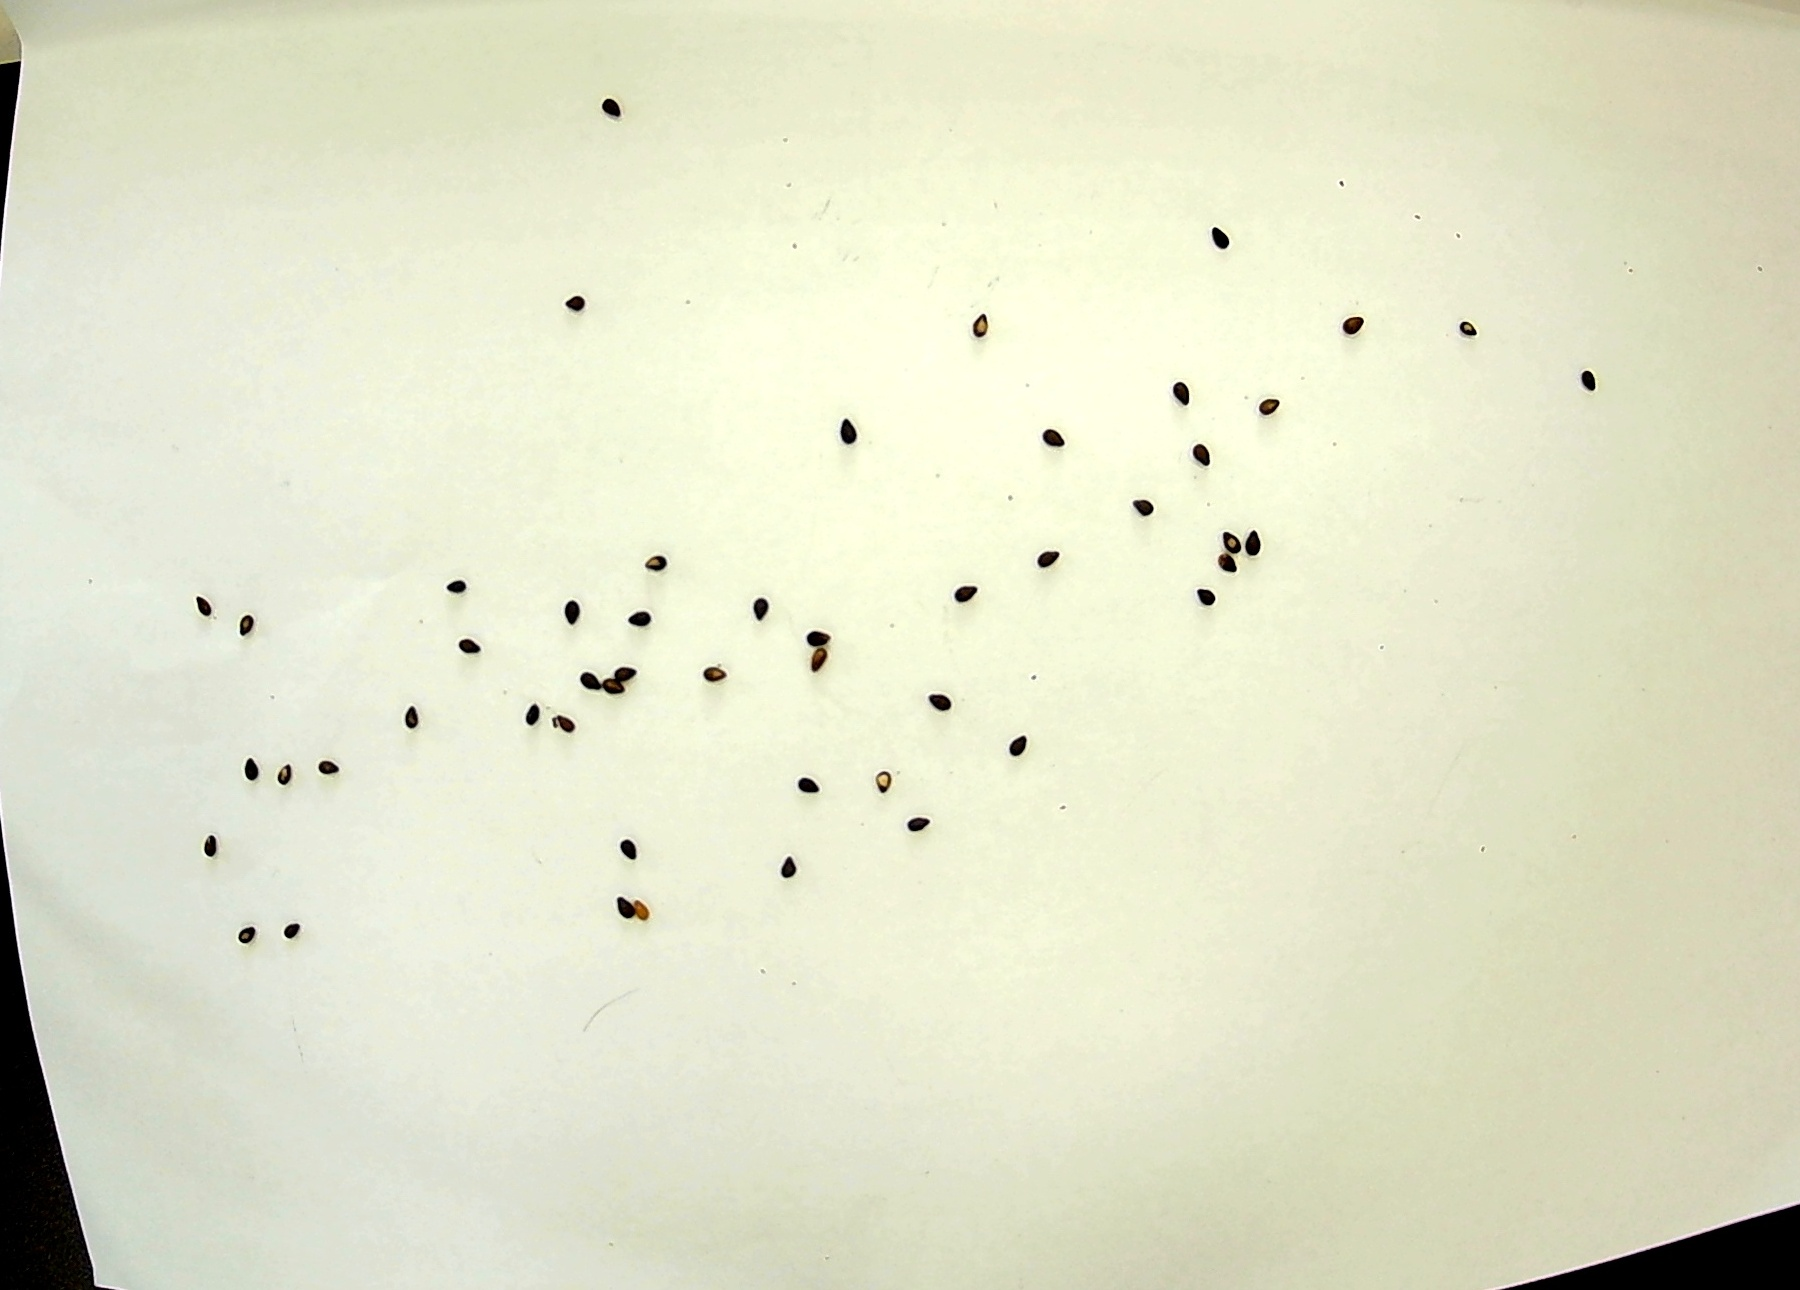sesami: (954, 311, 1007, 348), (1200, 216, 1238, 267), (399, 699, 430, 750), (1038, 417, 1081, 452), (1331, 309, 1369, 345), (273, 912, 310, 949), (1575, 357, 1605, 401), (834, 415, 871, 450), (453, 624, 487, 662), (550, 697, 578, 741), (1450, 307, 1489, 338), (1005, 723, 1033, 765), (638, 877, 659, 933), (606, 677, 638, 713), (1254, 392, 1289, 424), (950, 581, 980, 618), (599, 89, 627, 128), (232, 919, 260, 958), (1125, 497, 1157, 531), (804, 620, 839, 651), (740, 595, 774, 625), (786, 773, 832, 796), (565, 288, 594, 322), (241, 754, 268, 792), (922, 690, 953, 722), (776, 847, 808, 878), (578, 665, 607, 697), (642, 550, 675, 578), (1180, 443, 1215, 469), (1030, 547, 1065, 574), (608, 662, 652, 683), (1246, 519, 1268, 560), (608, 891, 639, 920), (276, 751, 296, 797), (864, 762, 892, 794), (615, 828, 643, 860), (191, 591, 219, 623), (200, 831, 227, 861), (700, 660, 727, 692), (622, 599, 654, 625), (442, 572, 469, 605), (511, 699, 543, 726), (1193, 581, 1215, 618), (795, 651, 830, 674), (313, 757, 352, 778), (561, 600, 587, 631), (232, 614, 257, 646), (1169, 377, 1203, 401), (1222, 524, 1245, 554), (904, 807, 929, 833), (1211, 553, 1242, 574)
